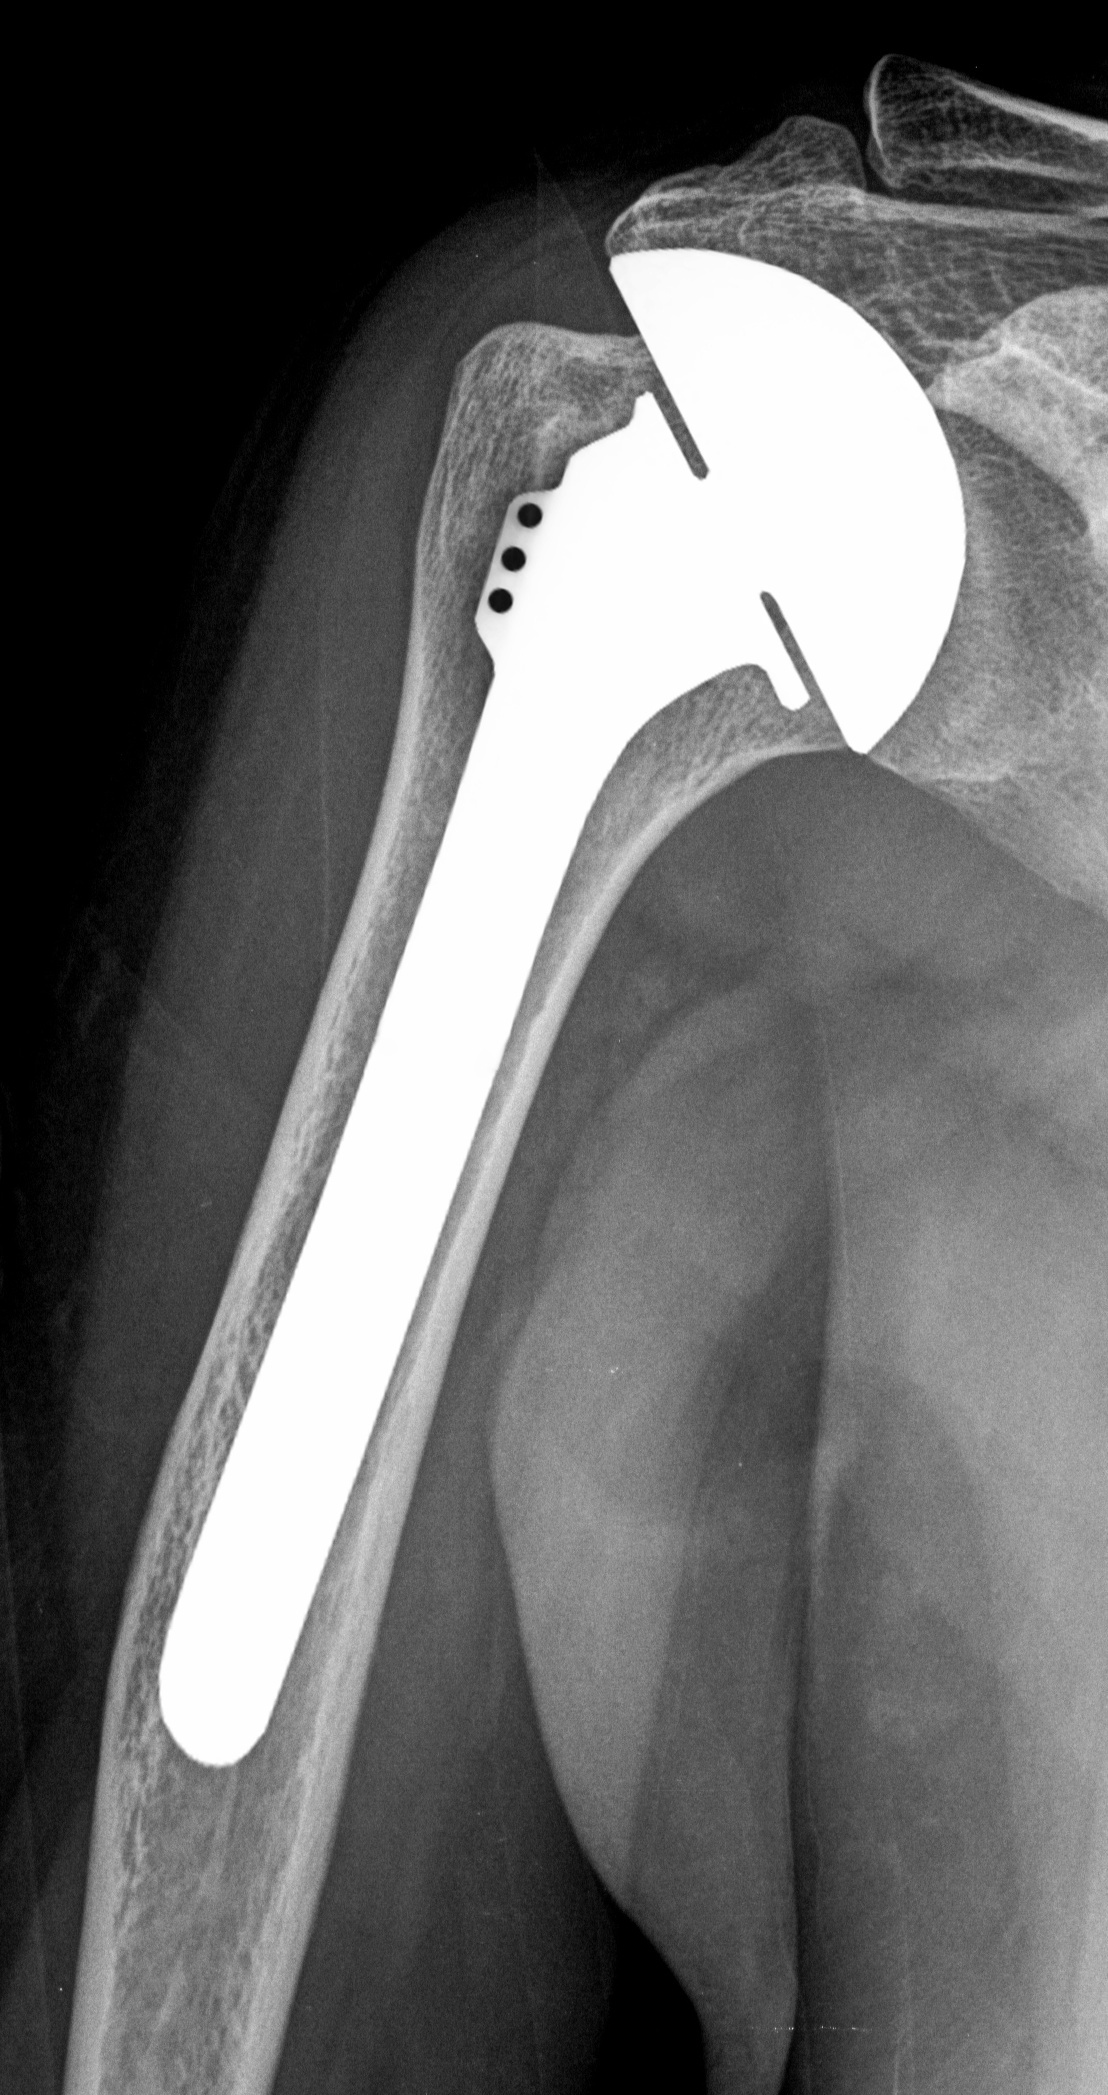Shoulder-Olympia-Wright: (122, 229, 990, 1803)
